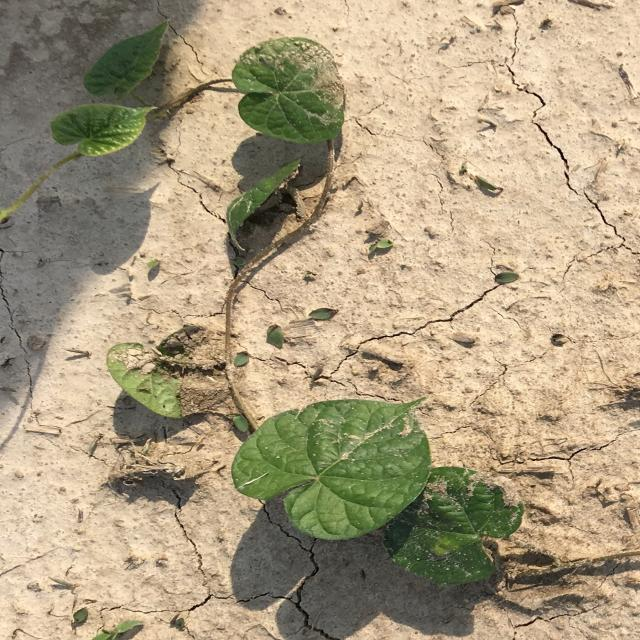MorningGlory: (1, 19, 526, 588)
